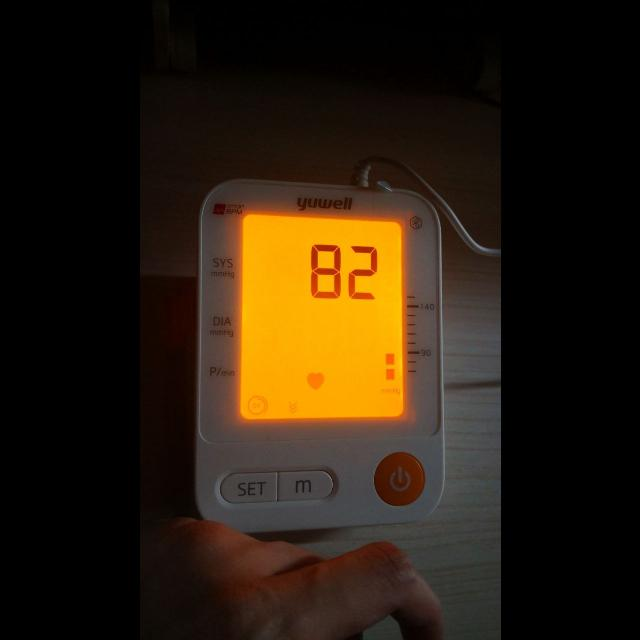Blood-Pressure-Monitor: (192, 174, 446, 534)
